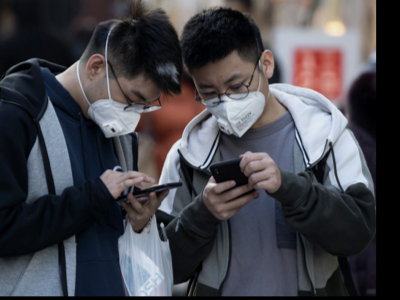with_mask: (196, 69, 270, 129), (88, 83, 152, 140)
